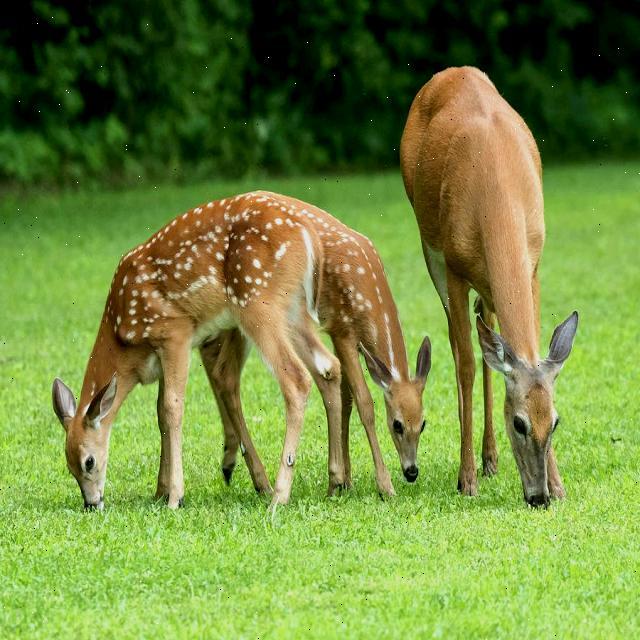deer: (473, 289, 594, 529), (356, 319, 454, 499), (35, 363, 127, 523)
